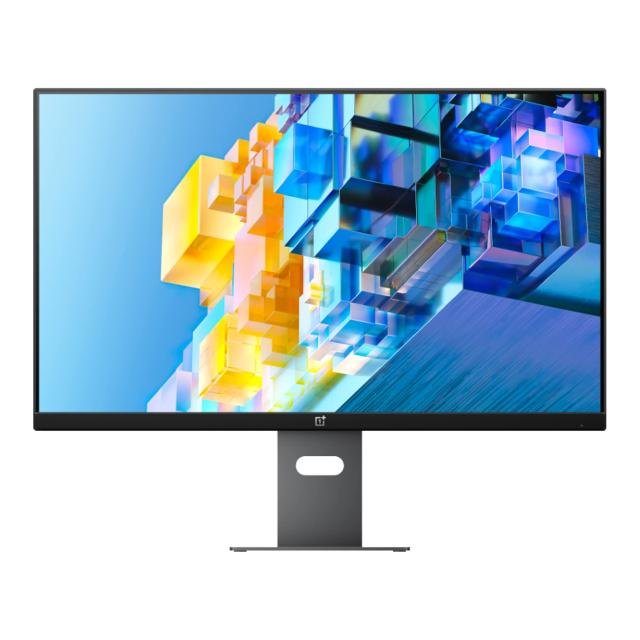monitor: (34, 79, 608, 557)
